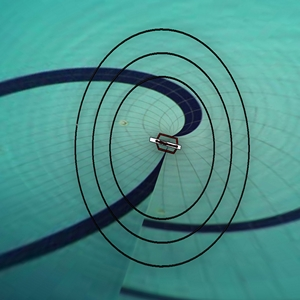circle: (64, 12, 268, 278)
submarine: (145, 120, 189, 166)
